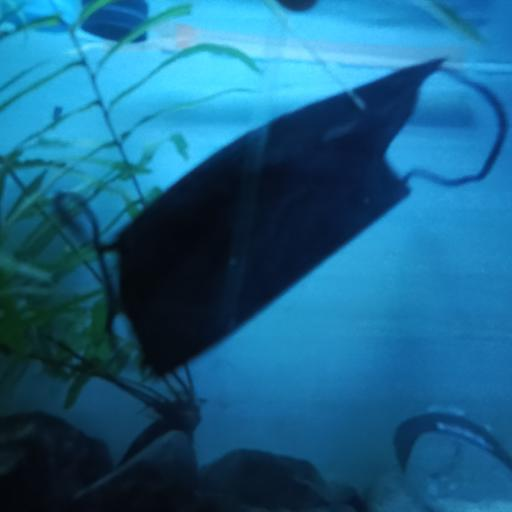bottle_cap: (83, 4, 147, 43)
mask: (55, 62, 509, 378)
plastic_bottle: (387, 378, 512, 512)
plastic_straw: (163, 26, 512, 64)
